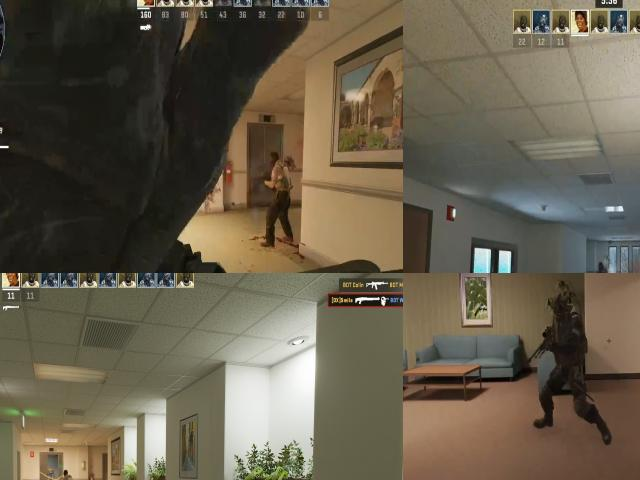CT: (543, 292, 593, 429), (592, 258, 614, 273)
CT-Head: (597, 260, 606, 273)
T: (264, 146, 295, 212), (268, 149, 284, 174), (63, 470, 73, 480)
T-Head: (64, 470, 68, 476)
